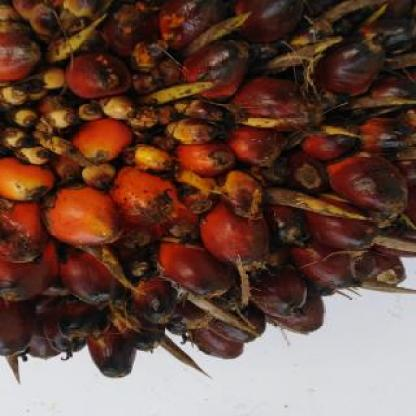Ripe: (0, 0, 416, 373)
